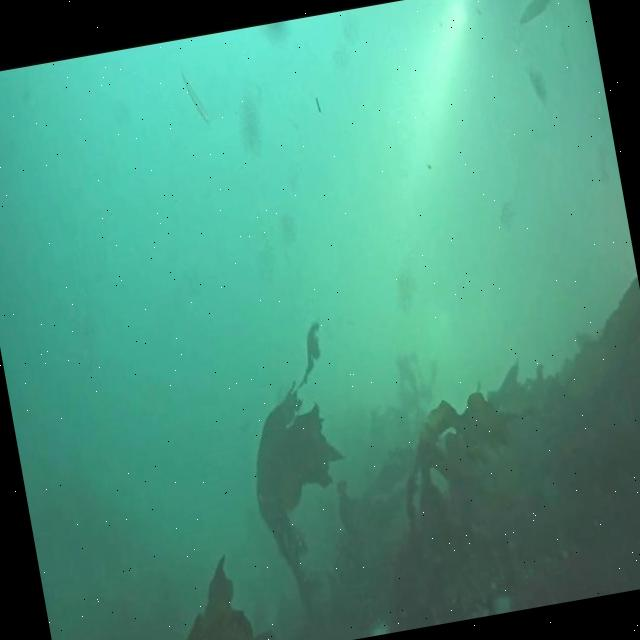fish: (180, 68, 210, 127), (512, 0, 571, 26)
